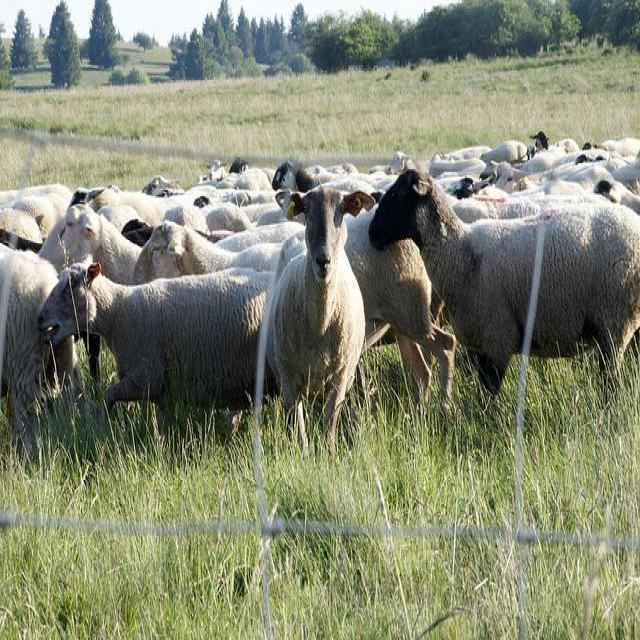Sheep: (0, 126, 639, 476), (369, 168, 639, 408), (38, 254, 284, 426), (268, 184, 381, 463), (346, 207, 457, 409), (127, 223, 286, 286), (38, 204, 145, 284)
